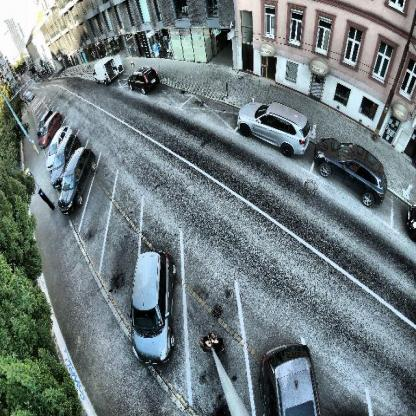free: (184, 273, 244, 385), (109, 206, 131, 309), (192, 87, 234, 130), (85, 182, 107, 263), (161, 81, 187, 110)
occupied: (245, 303, 318, 389), (132, 245, 179, 370), (319, 129, 391, 197), (237, 94, 311, 152), (64, 151, 90, 219), (49, 129, 67, 193), (88, 55, 124, 83), (126, 65, 160, 92), (45, 109, 65, 137)
